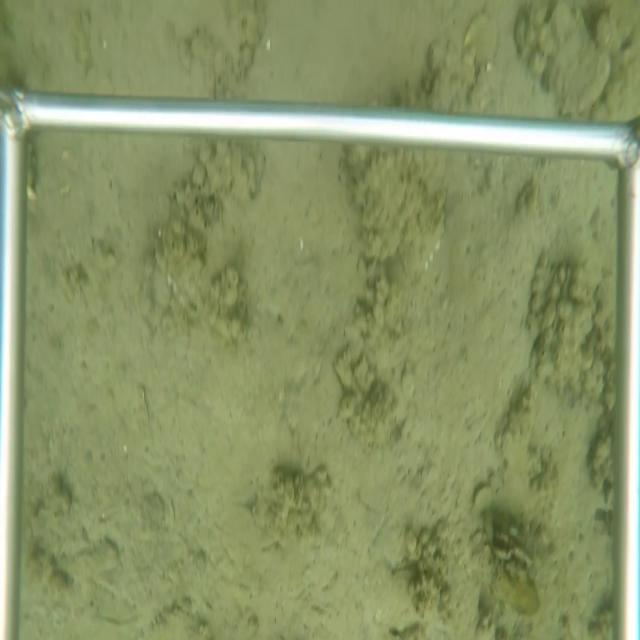Oyster-Indeterminate: (547, 4, 612, 116)
